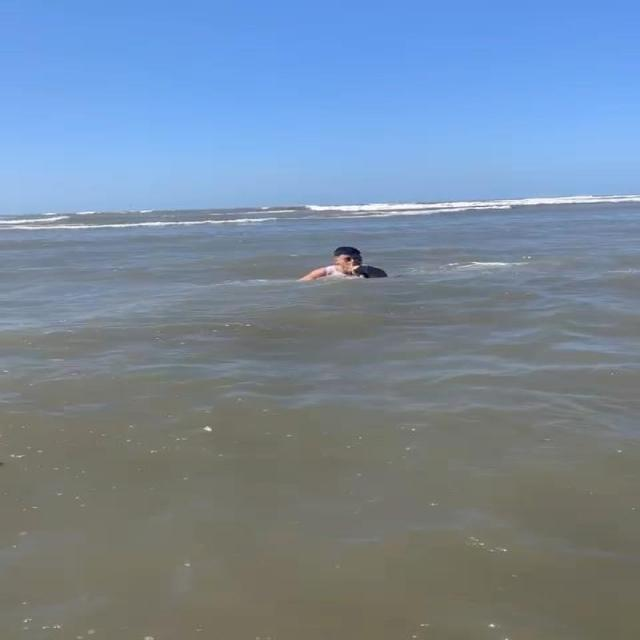Out of Water: (294, 244, 398, 283)
